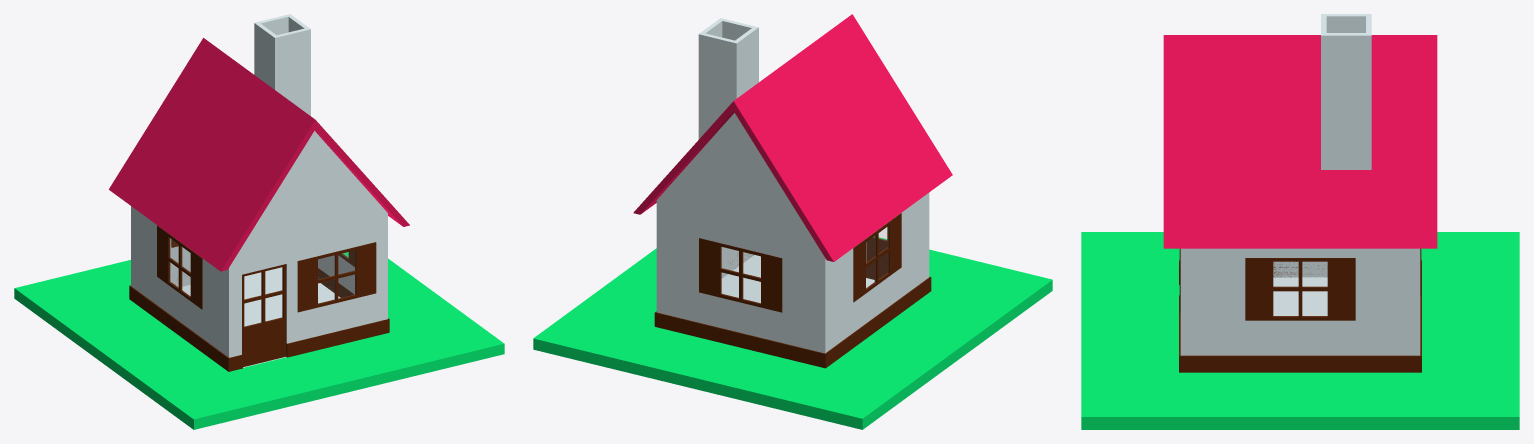
File: building——new.fbx
3 renders of one model, left to right at view 1: azimuth 30°, elevation 25°; view 2: azimuth 150°, elevation 25°; view 3: azimuth 270°, elevation 25°, orthographic. The views are drawn at different scales.
Parts seen in each view (by area): view 1: House, Grass, Window, Glass; view 2: House, Grass, Window, Glass; view 3: House, Grass, Window, Glass.
Part boxes in pixels (bbox=[...]): House: bbox=[109, 14, 409, 371]; Grass: bbox=[14, 252, 504, 429]; Window: bbox=[157, 225, 376, 366]; Glass: bbox=[170, 239, 354, 326]; House: bbox=[633, 14, 952, 368]; Grass: bbox=[533, 236, 1052, 429]; Window: bbox=[699, 213, 901, 312]; Glass: bbox=[721, 227, 887, 302]; House: bbox=[1163, 14, 1437, 372]; Grass: bbox=[1081, 232, 1519, 429]; Window: bbox=[1179, 248, 1421, 320]; Glass: bbox=[1274, 262, 1326, 315].
Bounding box in the file's own units: 183 × 160 × 183.
